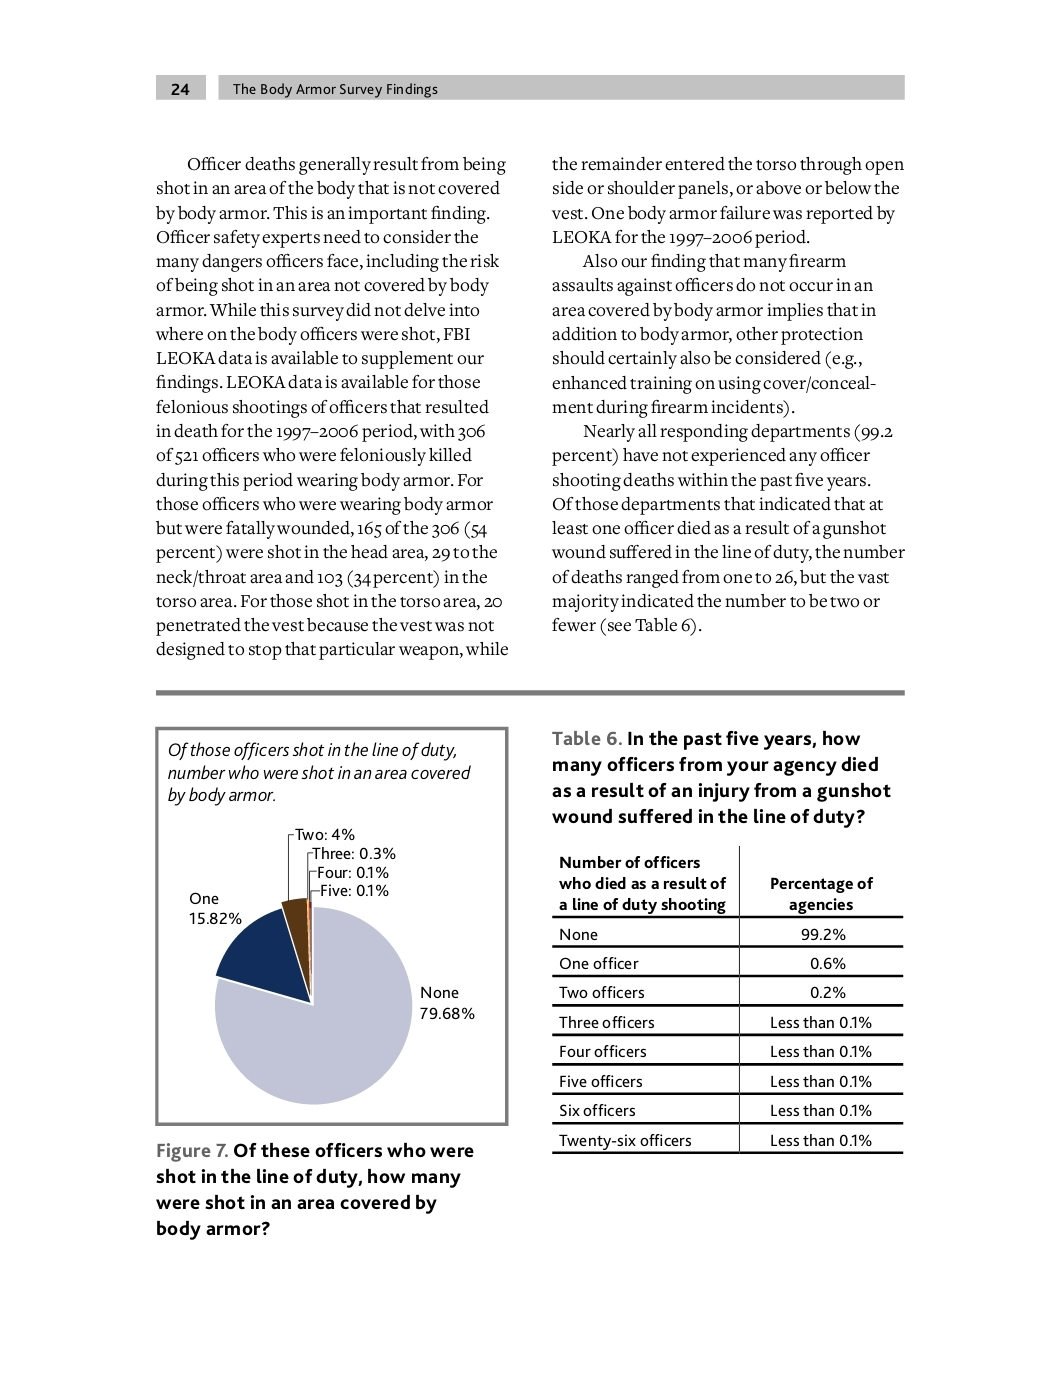Table: (552, 846, 903, 1153)
figure: (155, 726, 508, 1126), (156, 75, 904, 99)
